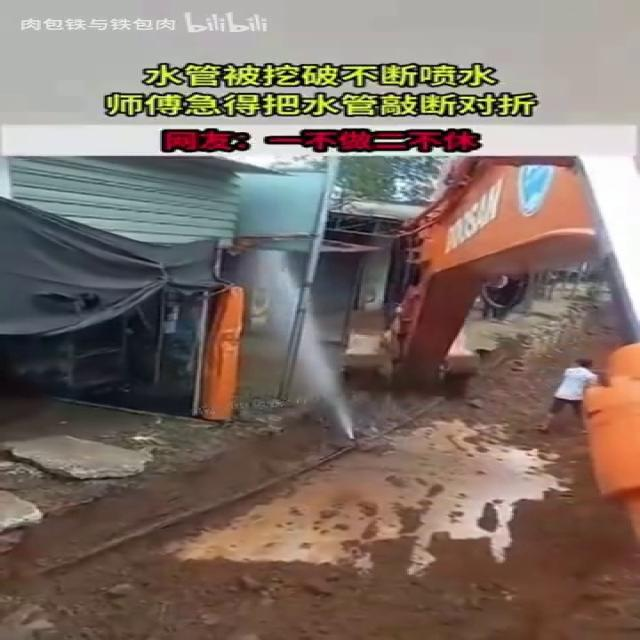leak: (256, 250, 358, 441)
